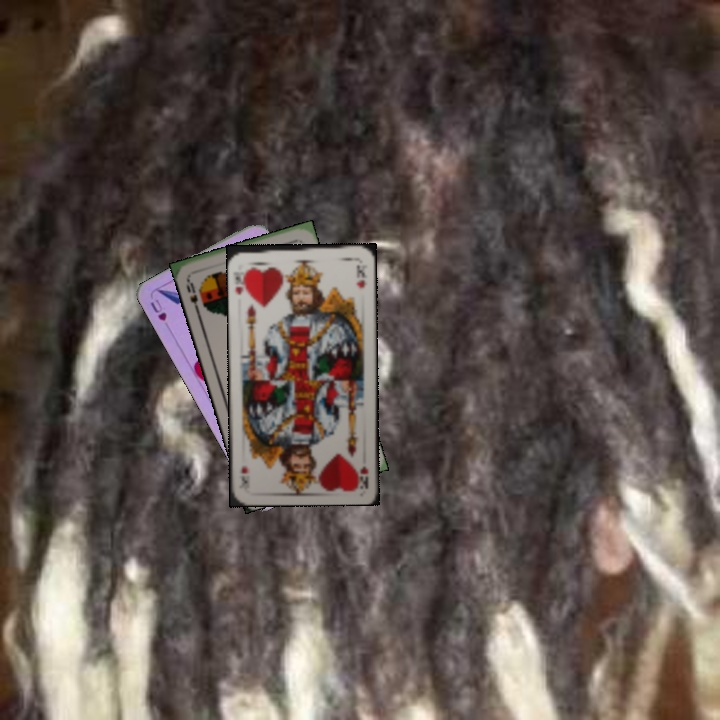HK: (231, 266, 250, 297), (354, 462, 371, 488)
HU: (146, 295, 169, 323)
SO: (182, 274, 202, 314)
